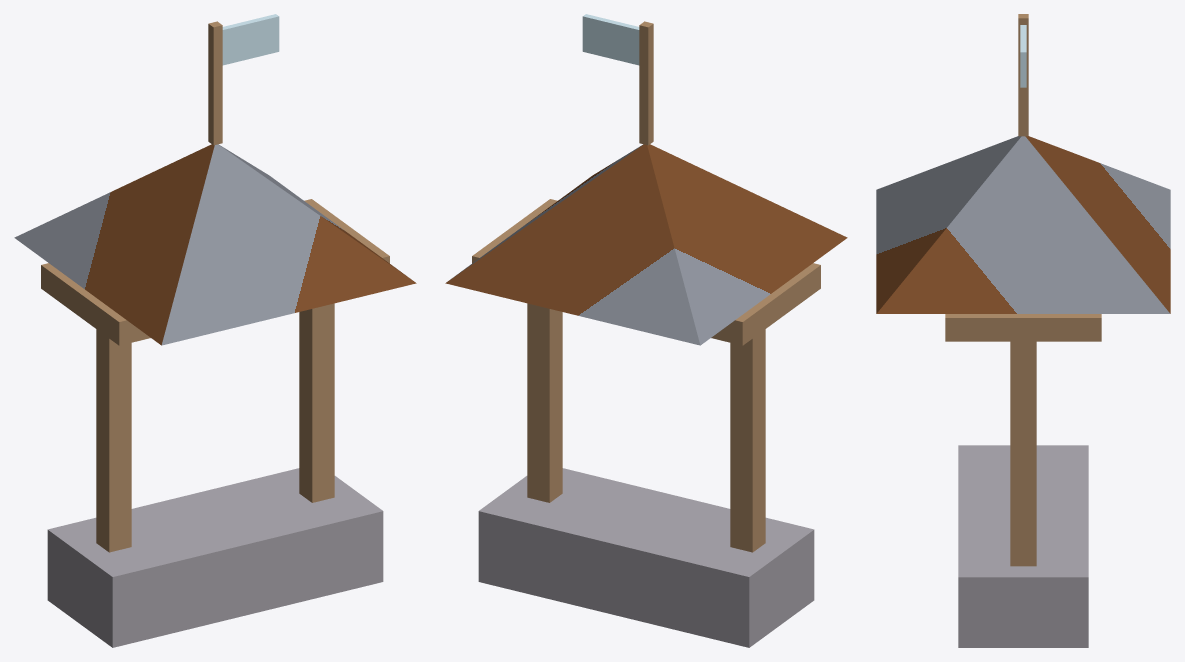
The model's file is tower.glb.
The picture shows the model from 3 angles, left to right: view 1: azimuth 30°, elevation 25°; view 2: azimuth 150°, elevation 25°; view 3: azimuth 270°, elevation 25°; orthographic projection.
Parts seen in each view (by area): view 1: Roof, Base, Leg-0.9, Leg0.9, Platform, Flag, Pole; view 2: Roof, Base, Leg-0.9, Leg0.9, Platform, Flag, Pole; view 3: Roof, Base, Leg0.9, Platform, Pole, Flag.
Part boxes in pixels (box(x1,y1,x2,y2)): Roof: box(14, 144, 416, 345); Base: box(47, 468, 383, 647); Leg-0.9: box(96, 329, 131, 552); Leg0.9: box(299, 303, 334, 502); Platform: box(41, 199, 389, 345); Flag: box(222, 14, 279, 65); Pole: box(208, 21, 222, 145); Roof: box(445, 144, 847, 345); Base: box(478, 468, 814, 647); Leg-0.9: box(730, 329, 765, 552); Leg0.9: box(527, 303, 562, 502); Platform: box(472, 199, 820, 345); Flag: box(582, 14, 639, 65); Pole: box(639, 21, 653, 145); Roof: box(876, 136, 1170, 313); Base: box(958, 445, 1088, 647); Leg0.9: box(1010, 341, 1036, 566); Platform: box(945, 314, 1101, 341); Pole: box(1018, 14, 1028, 136); Flag: box(1020, 25, 1026, 87).
Size of the model in its own units: 2.4 by 4.8 by 2.26.
Materials: 4 (1 with a texture image).
